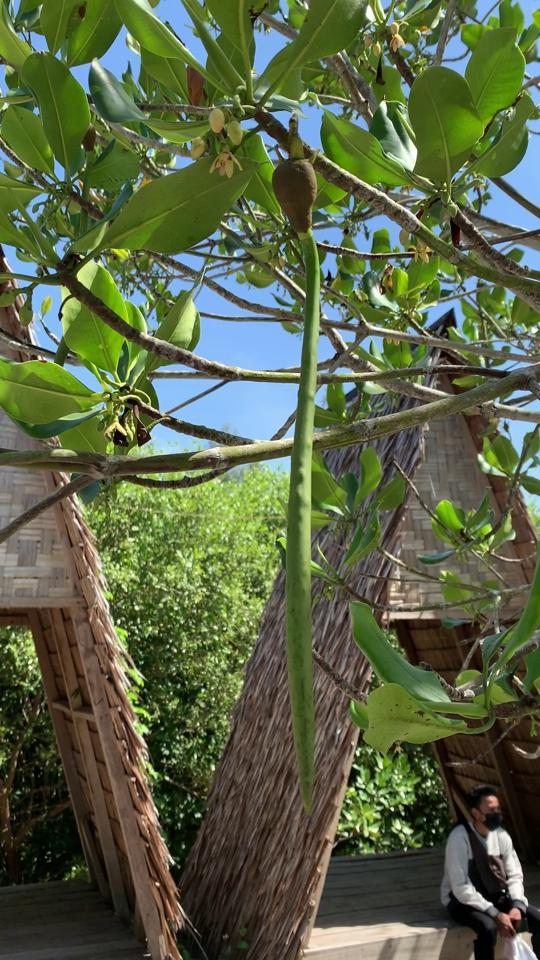setengah matang: (261, 134, 342, 826)
